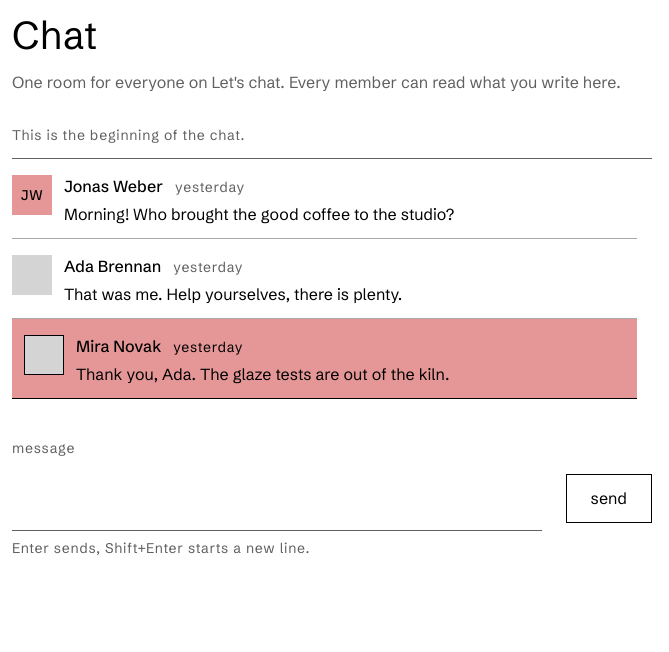
Test: ChatPage › B-83: text typed while the message was on its way survives the ack
This screenshot has width=669, height=652.
Type "Back in five" into the text box labelled "message".
click(277, 499); type("Back in five")  # box [12,467,542,531]
Then press Enter
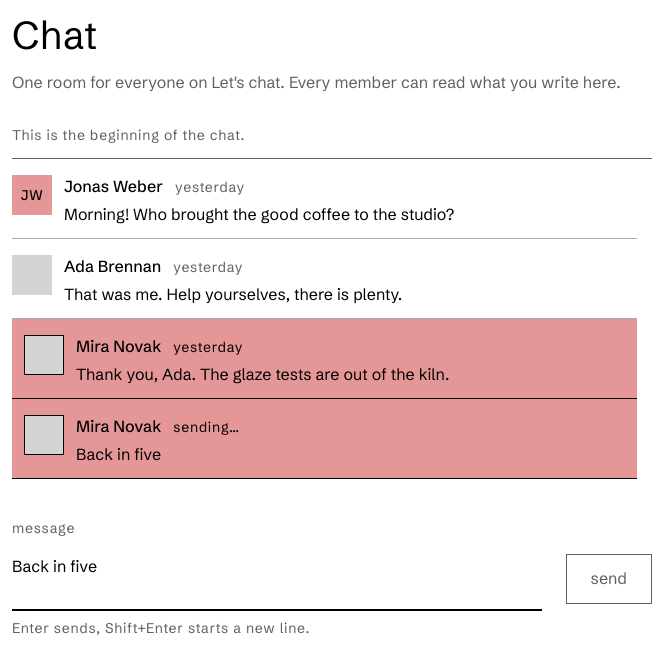
Type " minutes" into the text box labelled "message".
click(277, 579); type(" minutes")  # box [12,547,542,611]
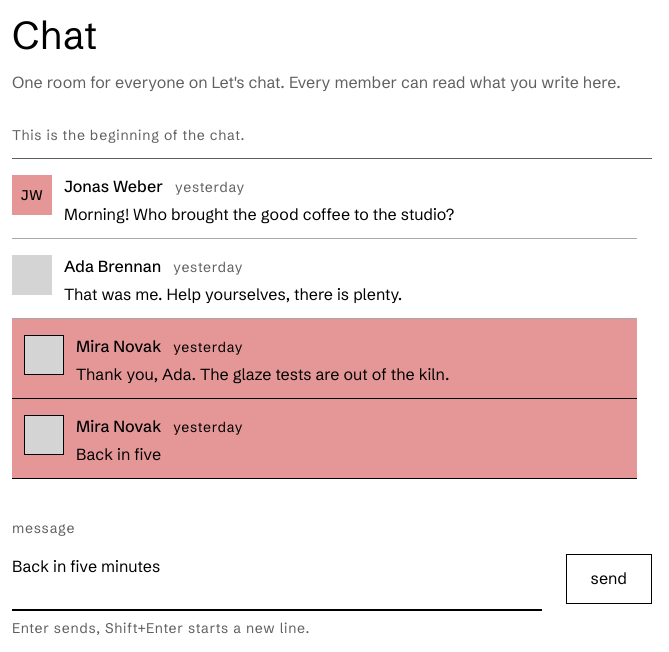
Expected: the text "sending…" is gone
Expected: the text box labelled "message" holds "Back in five minutes", [12,547,542,611]
